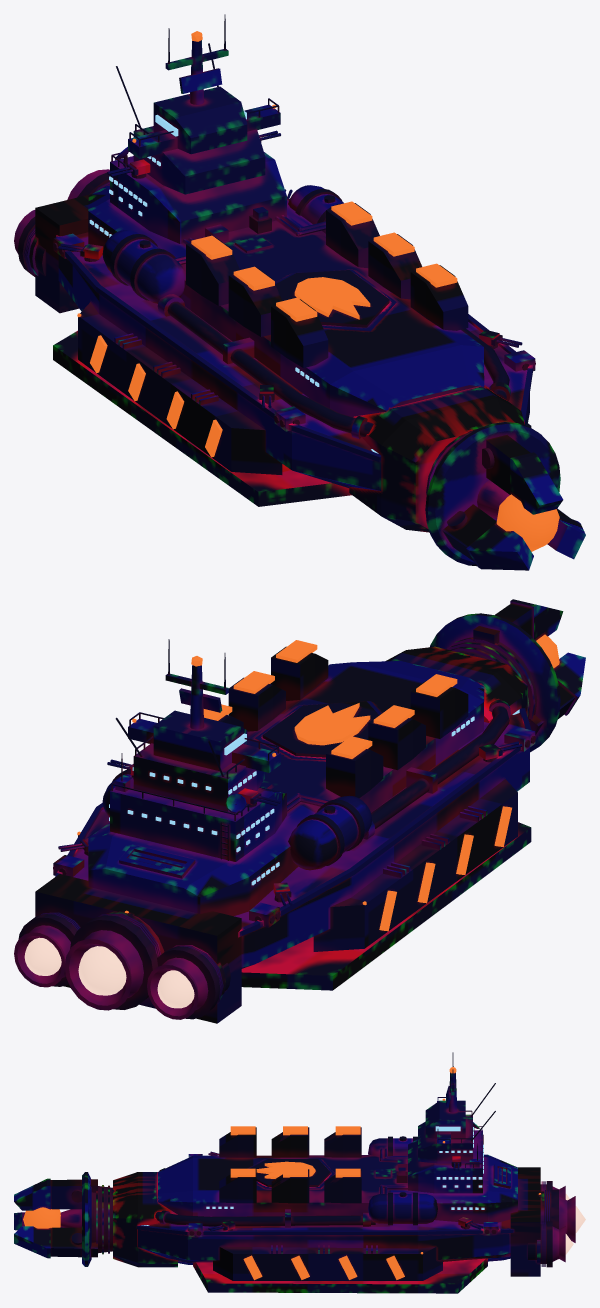
File: pyre.glb
3 renders of one model, top to bottom at view 1: azimuth 30°, elevation 25°; view 2: azimuth 150°, elevation 25°; view 3: azimuth 270°, elevation 25°, orthographic. The views are drawn at different scales.
Visible parts, largest first — view 1: pyre; view 2: pyre; view 3: pyre.
Part boxes in pixels (x1,y1,x2,y2): pyre: [14, 14, 585, 570]; pyre: [14, 599, 585, 1023]; pyre: [14, 1052, 585, 1293].
Bounding box in the file's own units: 4.18 × 4.75 × 11.44.
13 materials, 9 textured.
